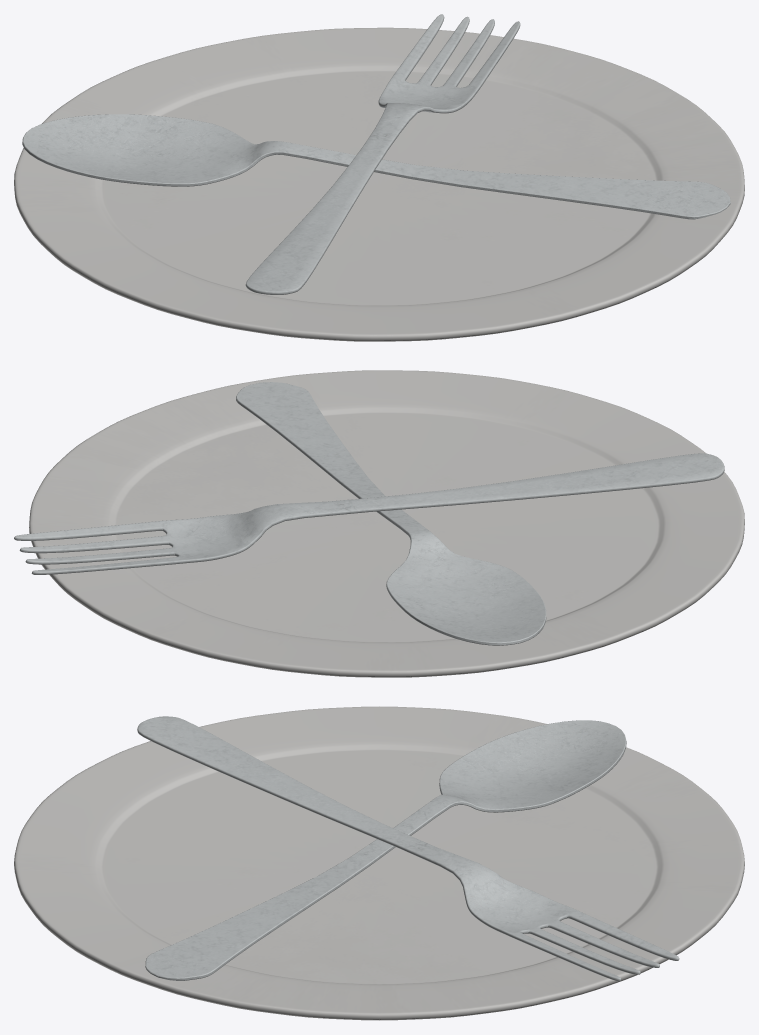
Rendered from dining_set_plate_spoon_and_fork.glb.
The picture shows the model from 3 angles, top to bottom: view 1: azimuth 30°, elevation 25°; view 2: azimuth 150°, elevation 25°; view 3: azimuth 270°, elevation 25°; orthographic projection. The views are drawn at different scales.
Visible parts, largest first — view 1: plate_0, spoone_1, FORK_2; view 2: plate_0, spoone_1, FORK_2; view 3: plate_0, spoone_1, FORK_2.
Boxes of the visible parts, bbox=[...] form: plate_0: bbox=[14, 27, 744, 341]; spoone_1: bbox=[22, 114, 730, 219]; FORK_2: bbox=[245, 14, 520, 294]; plate_0: bbox=[29, 370, 744, 677]; spoone_1: bbox=[236, 382, 546, 645]; FORK_2: bbox=[14, 453, 724, 574]; plate_0: bbox=[14, 706, 744, 1020]; spoone_1: bbox=[145, 720, 626, 980]; FORK_2: bbox=[137, 716, 679, 981].
Size of the model in its own units: 1.99 by 0.1284 by 1.99.
3 materials, 3 textured.
